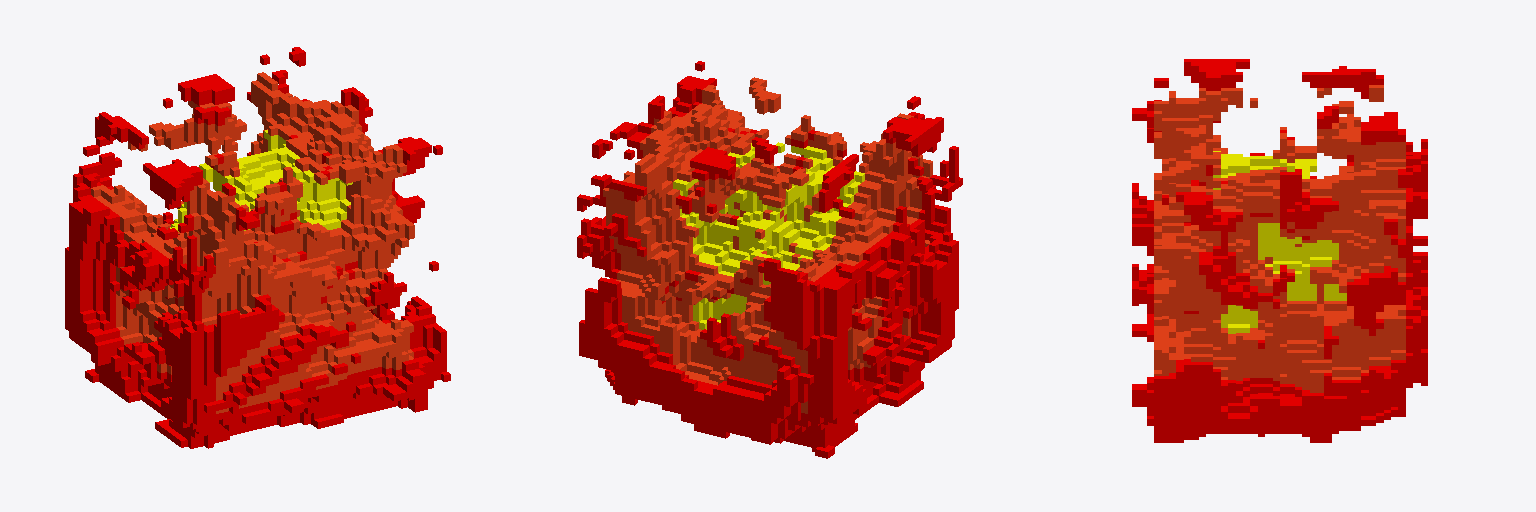
The picture shows the model from 3 angles: view 1: azimuth 30°, elevation 25°; view 2: azimuth 150°, elevation 25°; view 3: azimuth 270°, elevation 25°; orthographic projection.
Visible parts, largest first — view 1: object 1; view 2: object 1; view 3: object 1.
Part boxes in pixels (x1,y1,x2,y2): object 1: (65,47,450,448); object 1: (577,61,962,458); object 1: (1132,59,1427,442).
Bounding box in the file's own units: 4 × 4 × 4.
Materials: 1 (1 with a texture image).